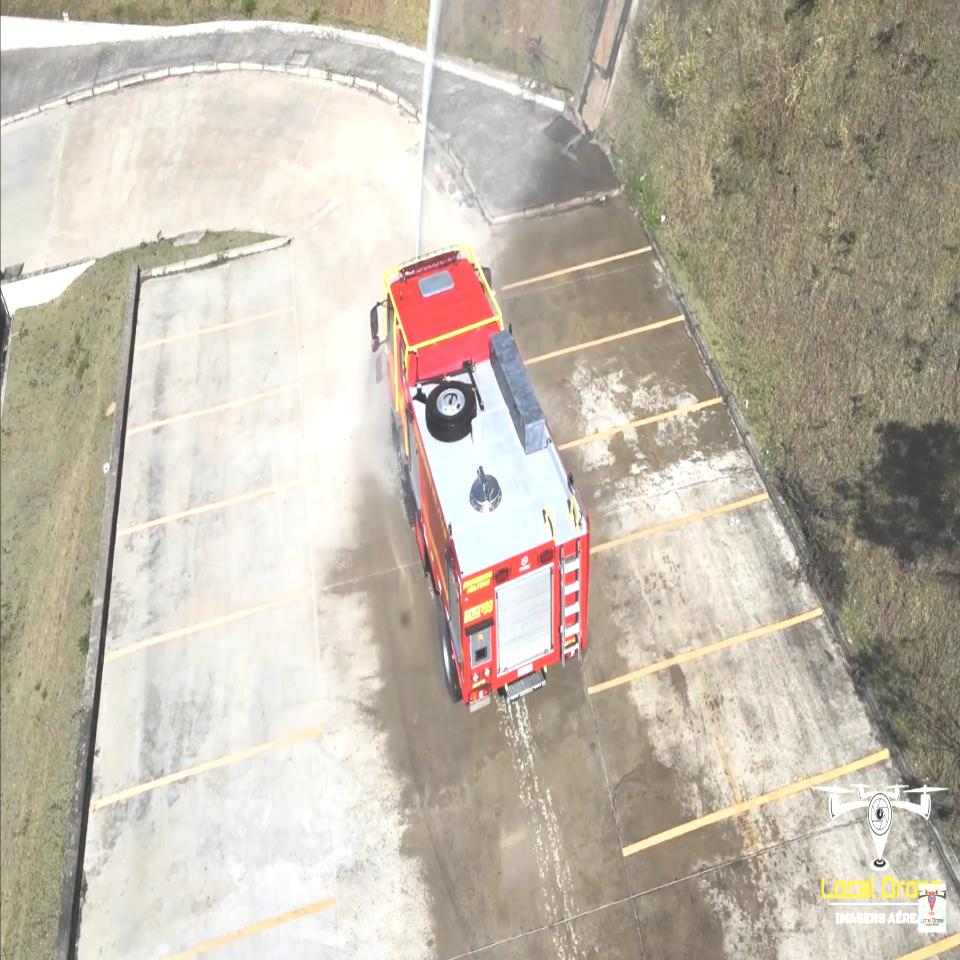bombeiro: (368, 240, 591, 712)
